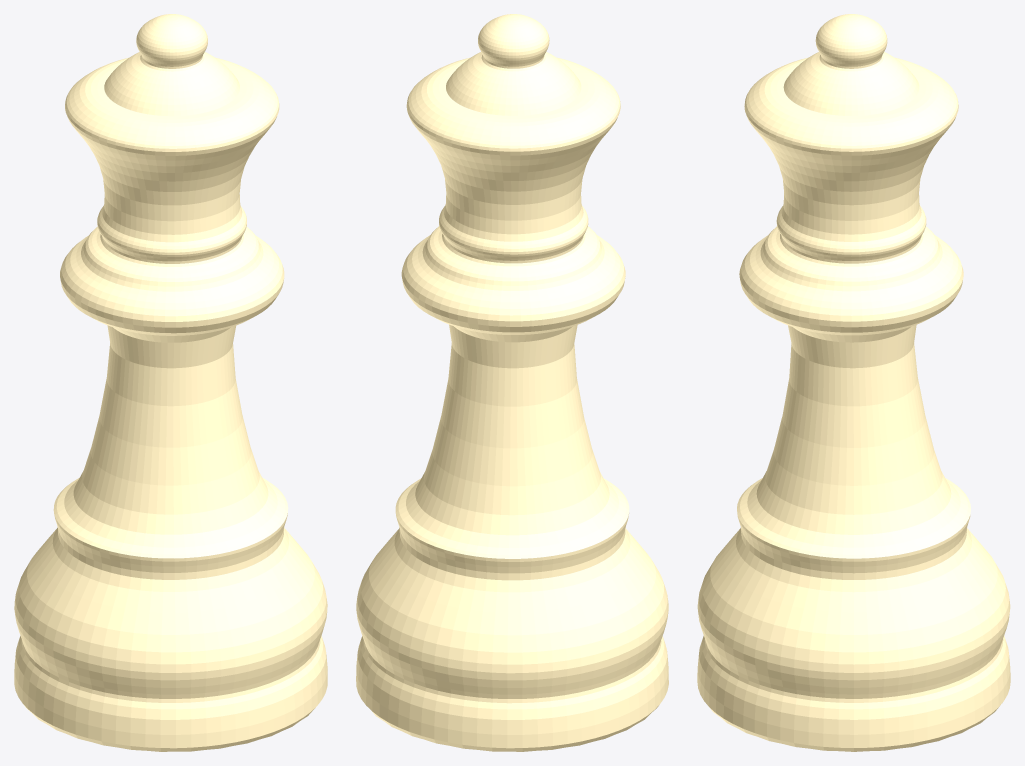
Rendered from Queen.glb.
The picture shows the model from 3 angles, left to right: view 1: azimuth 30°, elevation 25°; view 2: azimuth 150°, elevation 25°; view 3: azimuth 270°, elevation 25°; orthographic projection.
Visible parts, largest first — view 1: queen.001_15; view 2: queen.001_15; view 3: queen.001_15.
Part boxes in pixels (bbox=[...]): queen.001_15: bbox=[14, 14, 327, 751]; queen.001_15: bbox=[356, 14, 668, 751]; queen.001_15: bbox=[697, 14, 1010, 751].
Bounding box in the file's own units: 0.1963 × 0.4634 × 0.1963.
